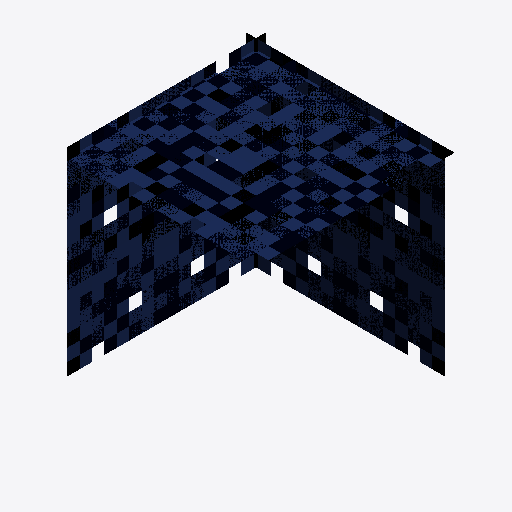
Isometric view (azimuth 45°, elevation 35.3°) of a Minecraft model made of 3 cuboids, textured from the same repository.
Parts seen in each view (by area): element 1, element 3, element 2.
Boxes of the visible parts, x1,y1,x2,y2 form: element 1: [70, 50, 453, 259]; element 3: [246, 33, 444, 375]; element 2: [67, 33, 265, 375].
Bounding box in the file's own units: 16 × 16 × 16.